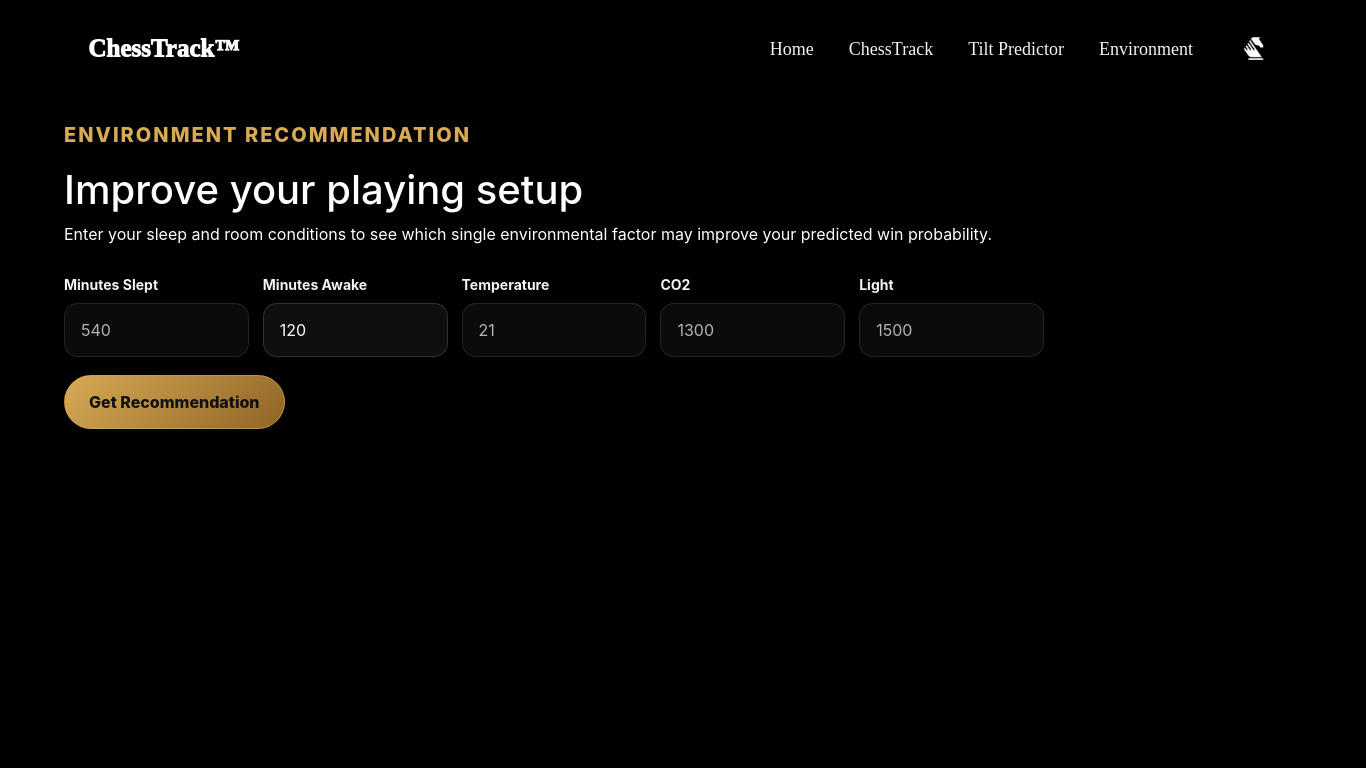
Test: EnvironmentRecommendation — ML API flow › posts recommendation inputs to /recommendations/environment and renders result
This screenshot has width=1366, height=768.
Click the button "Get Recommendation" at [174, 402], box [64,375,284,429]
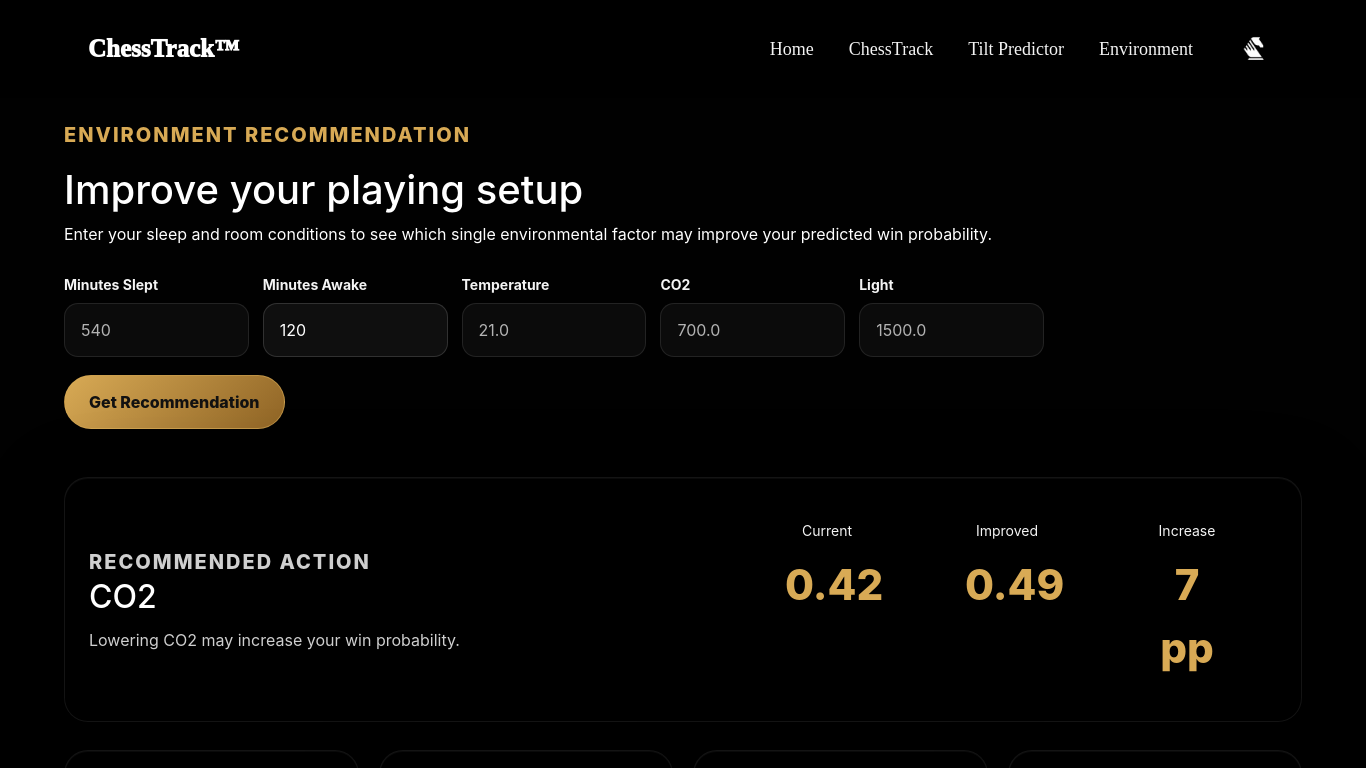
Check: the text "CO2" is shown, box [660,276,690,293]
Check: the text "Recommended Action" is shown, box [89,550,371,574]
Check: the text "Lowering CO2 may increase your win probability." is shown, box [89,628,460,654]
